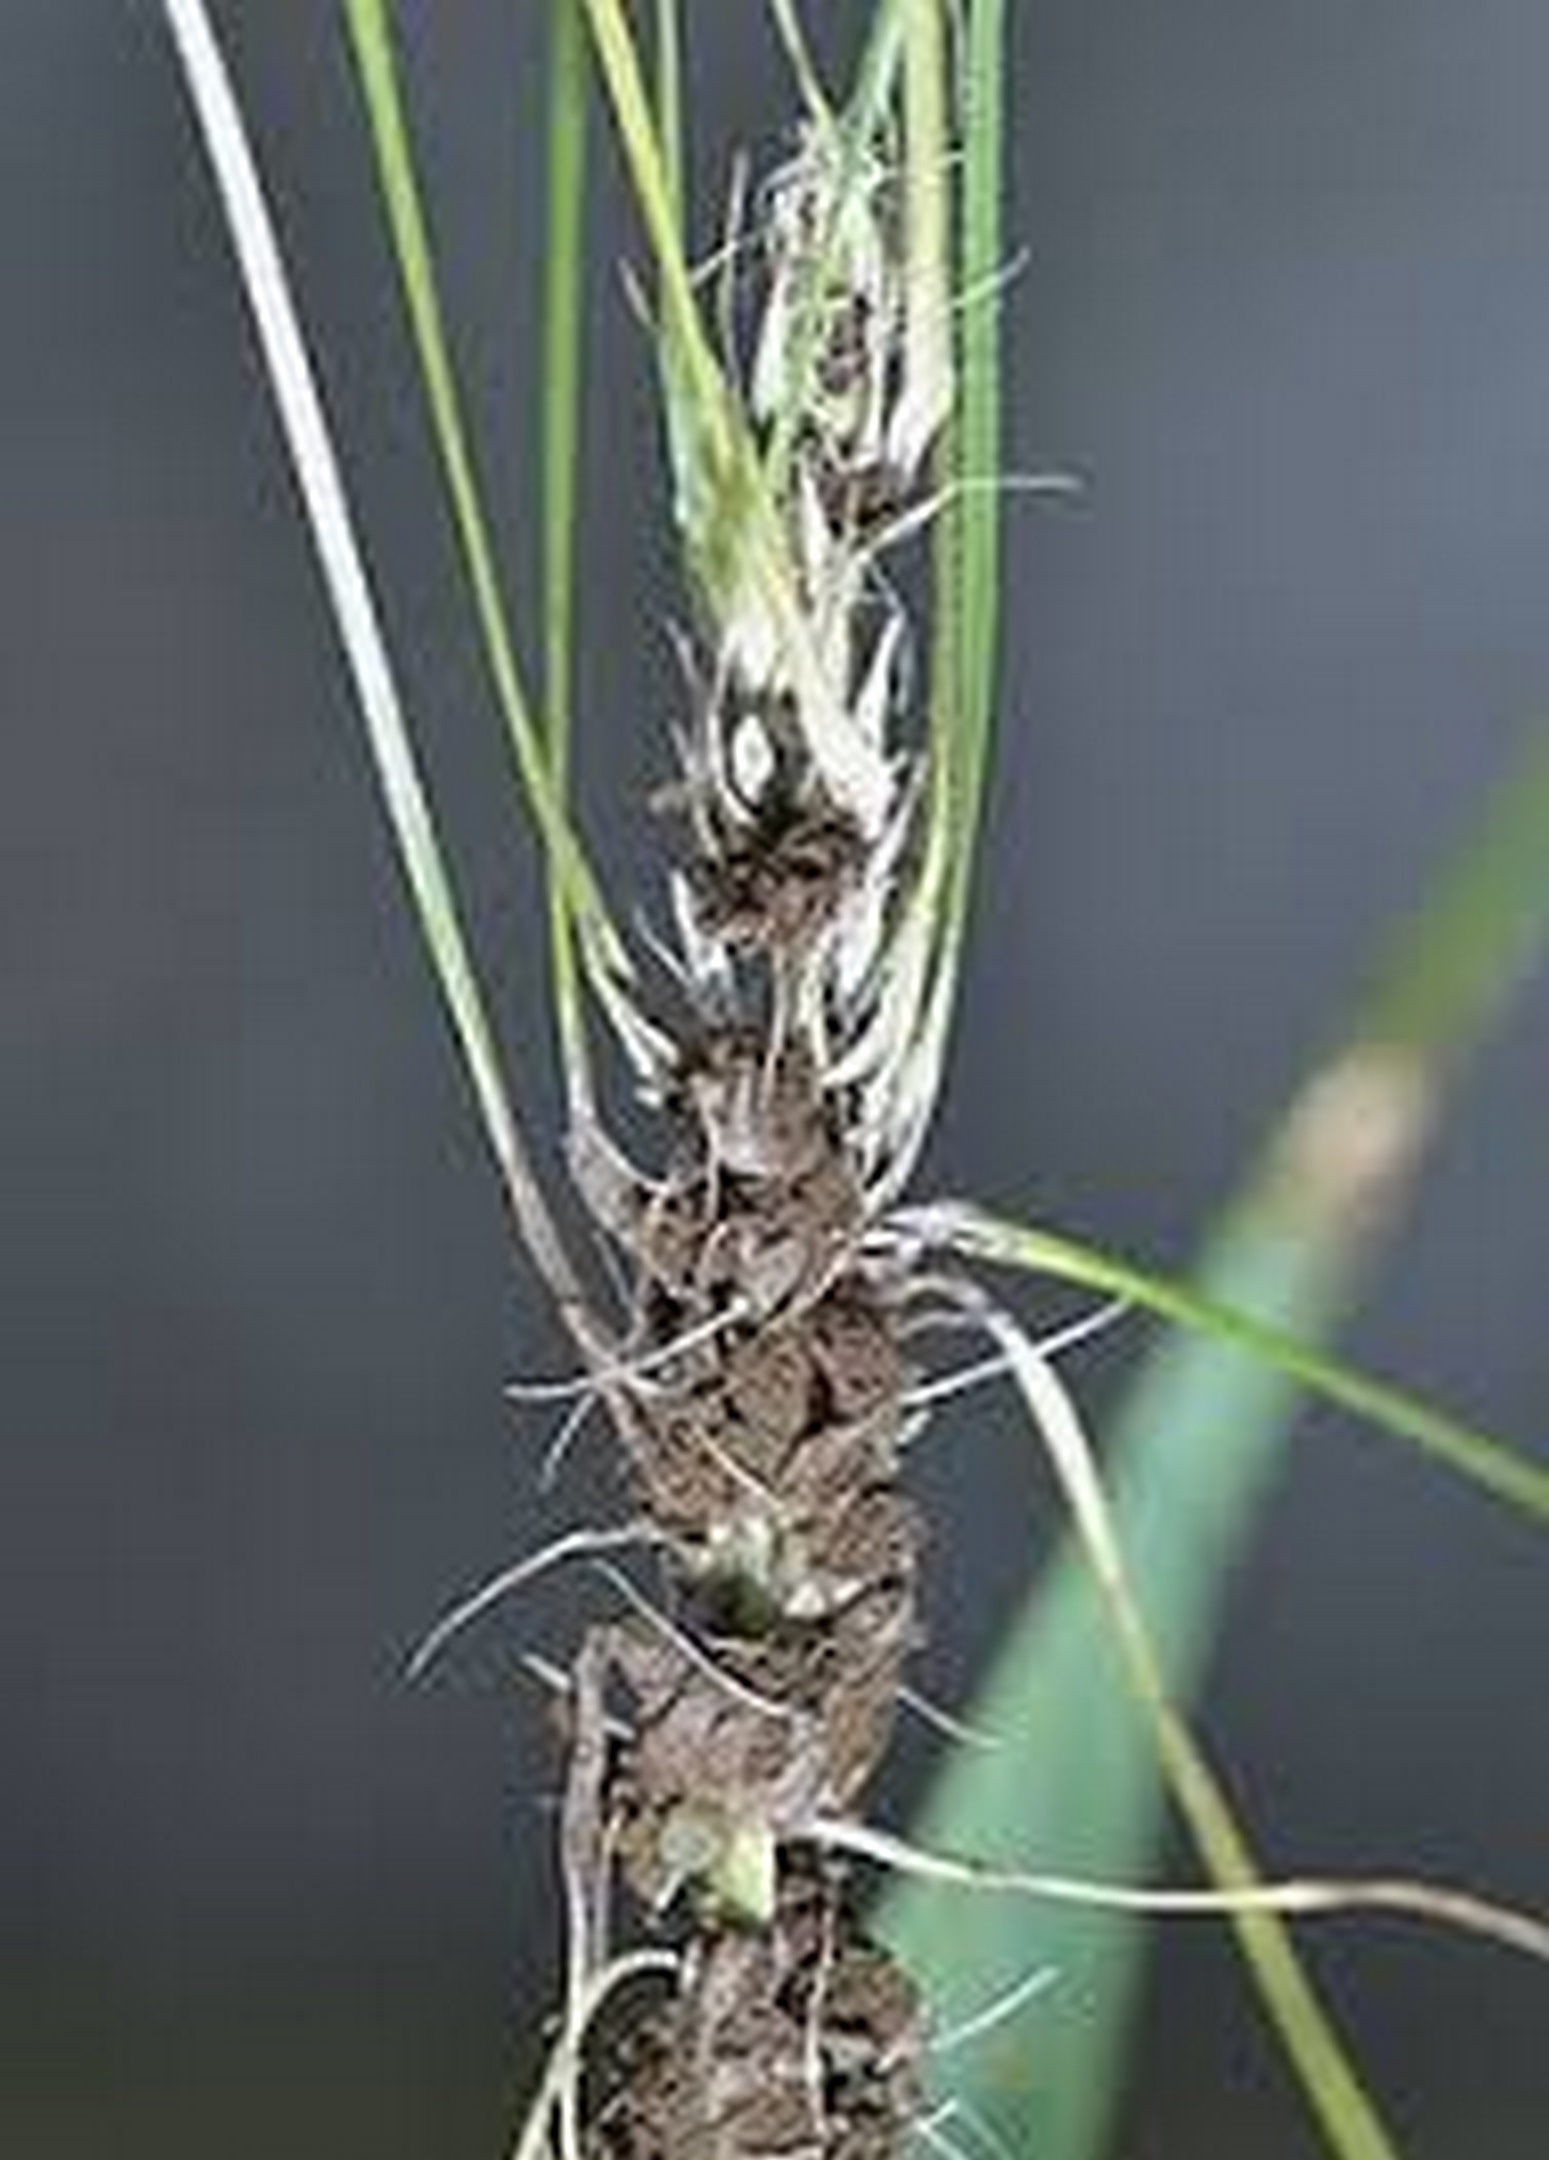Wheat Loose Smut: (469, 501, 971, 2145)
